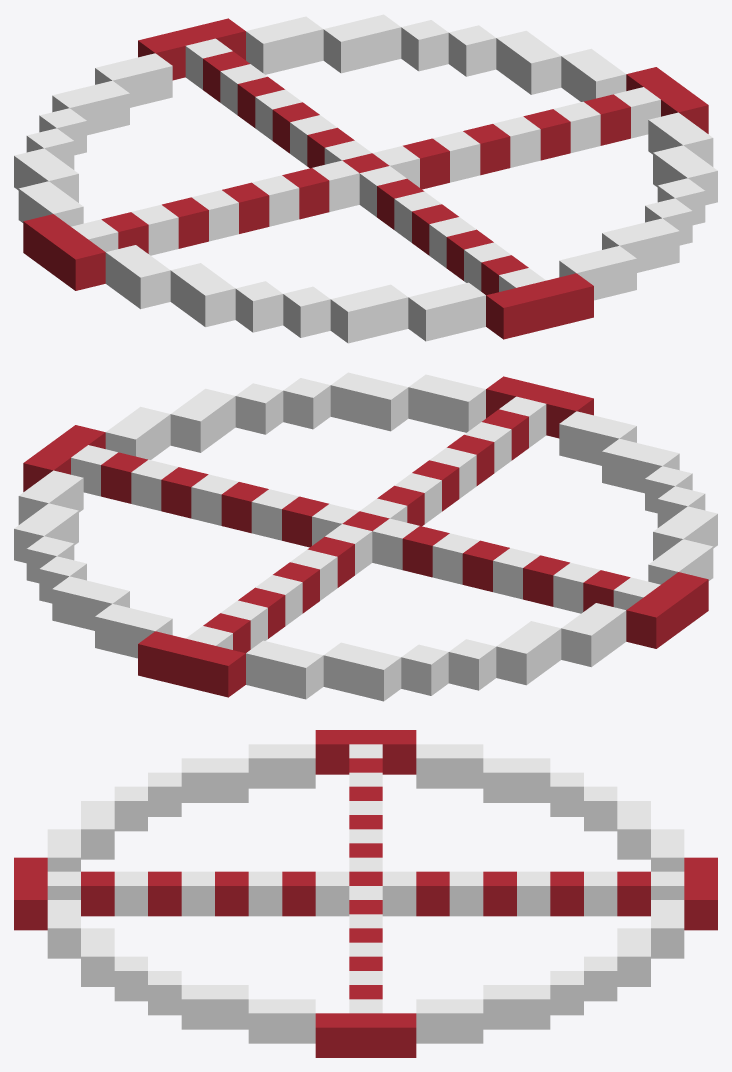
Rendered from pointer.obj.
3 renders of one model, top to bottom at view 1: azimuth 30°, elevation 25°; view 2: azimuth 150°, elevation 25°; view 3: azimuth 270°, elevation 25°, orthographic. The views are drawn at different scales.
Bounding box in the file's own units: 2.1 × 0.1 × 2.1.
Materials: 1 (1 with a texture image).
